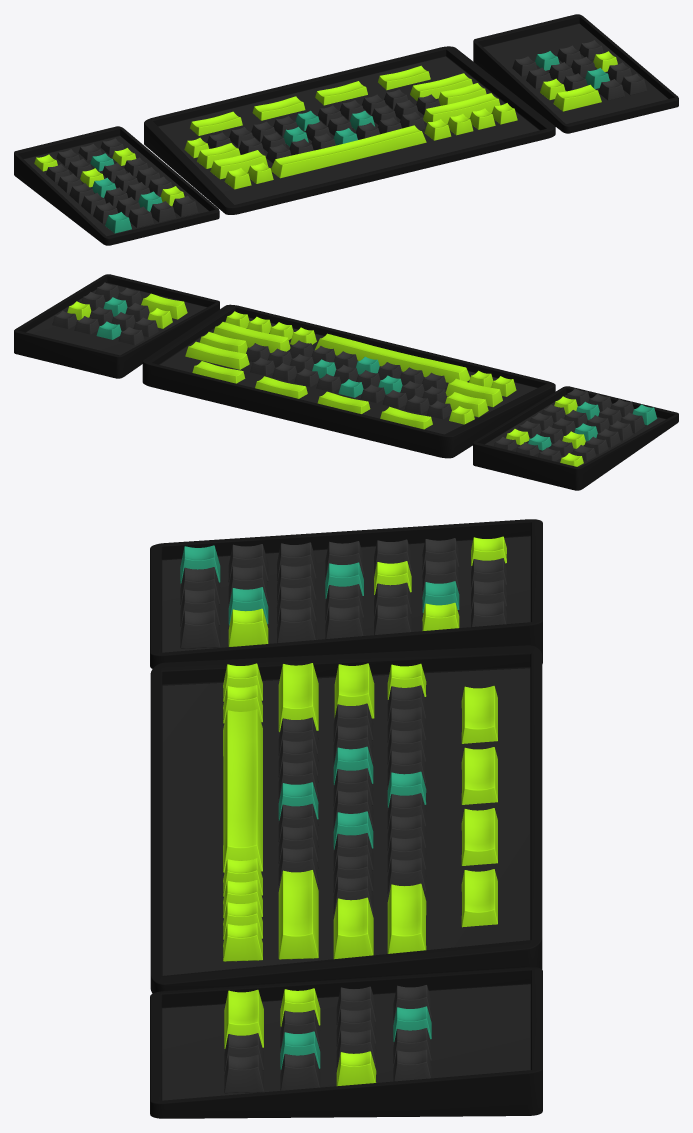
The picture shows the model from 3 angles, top to bottom: view 1: azimuth 30°, elevation 25°; view 2: azimuth 150°, elevation 25°; view 3: azimuth 270°, elevation 25°; orthographic projection. The views are drawn at different scales.
Parts seen in each view (by area): view 1: Plane, Plane.007, Plane.001, Plane.013, Plane.012, Plane.008, Plane.023, Plane.003, Plane.005, Plane.004, Plane.006, Plane.002 (+7 smaller); view 2: Plane, Plane.007, Plane.001, Plane.013, Plane.008, Plane.012, Plane.015, Plane.003, Plane.005, Plane.006, Plane.004, Plane.023 (+7 smaller); view 3: Plane, Plane.007, Plane.001, Plane.013, Plane.008, Plane.002, Plane.012, Plane.004, Plane.006, Plane.003, Plane.005, Plane.011 (+14 smaller).
Part boxes in pixels (x1=…): Plane: x1=14, y1=14, x2=678, y2=245; Plane.007: x1=46, y1=40, x2=647, y2=233; Plane.001: x1=271, y1=125, x2=426, y2=178; Plane.013: x1=423, y1=93, x2=500, y2=124; Plane.012: x1=210, y1=150, x2=268, y2=179; Plane.008: x1=410, y1=73, x2=472, y2=100; Plane.023: x1=553, y1=84, x2=601, y2=111; Plane.003: x1=190, y1=111, x2=242, y2=135; Plane.005: x1=315, y1=81, x2=367, y2=105; Plane.004: x1=252, y1=96, x2=305, y2=120; Plane.006: x1=378, y1=65, x2=430, y2=90; Plane.002: x1=438, y1=83, x2=486, y2=105; Plane: x1=14, y1=274, x2=678, y2=490; Plane.007: x1=52, y1=282, x2=657, y2=461; Plane.001: x1=315, y1=333, x2=470, y2=382; Plane.013: x1=213, y1=322, x2=290, y2=352; Plane.008: x1=185, y1=341, x2=249, y2=369; Plane.012: x1=445, y1=378, x2=502, y2=407; Plane.015: x1=294, y1=368, x2=341, y2=392; Plane.003: x1=380, y1=406, x2=432, y2=429; Plane.005: x1=255, y1=376, x2=307, y2=398; Plane.006: x1=192, y1=361, x2=245, y2=383; Plane.004: x1=317, y1=391, x2=370, y2=413; Plane.023: x1=141, y1=293, x2=187, y2=319; Plane: x1=150, y1=519, x2=542, y2=1118; Plane.007: x1=180, y1=538, x2=506, y2=1093; Plane.001: x1=223, y1=709, x2=262, y2=872; Plane.013: x1=278, y1=870, x2=318, y2=959; Plane.008: x1=387, y1=883, x2=426, y2=953; Plane.002: x1=333, y1=897, x2=373, y2=959; Plane.012: x1=278, y1=663, x2=318, y2=731; Plane.004: x1=461, y1=747, x2=497, y2=804; Plane.006: x1=461, y1=869, x2=497, y2=927; Plane.003: x1=461, y1=686, x2=497, y2=743; Plane.005: x1=461, y1=808, x2=497, y2=865; Plane.011: x1=278, y1=739, x2=318, y2=799.
Bounding box in the file's own units: 4.59 × 0.1679 × 1.36.
